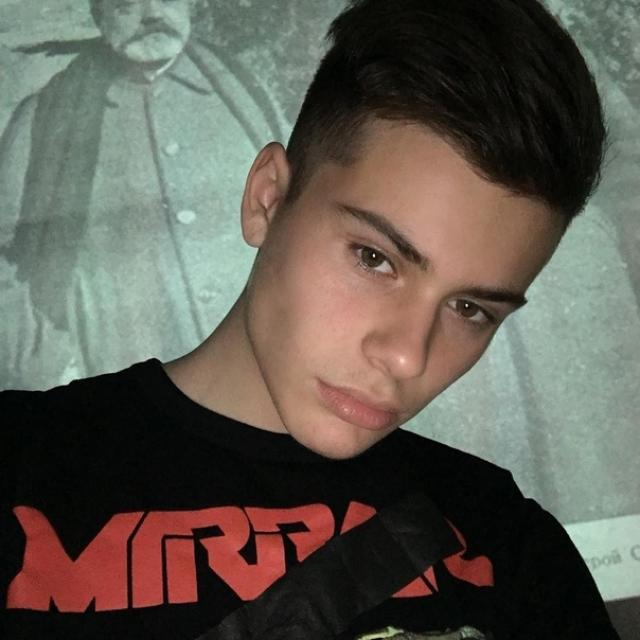earlobe: (240, 140, 288, 248)
